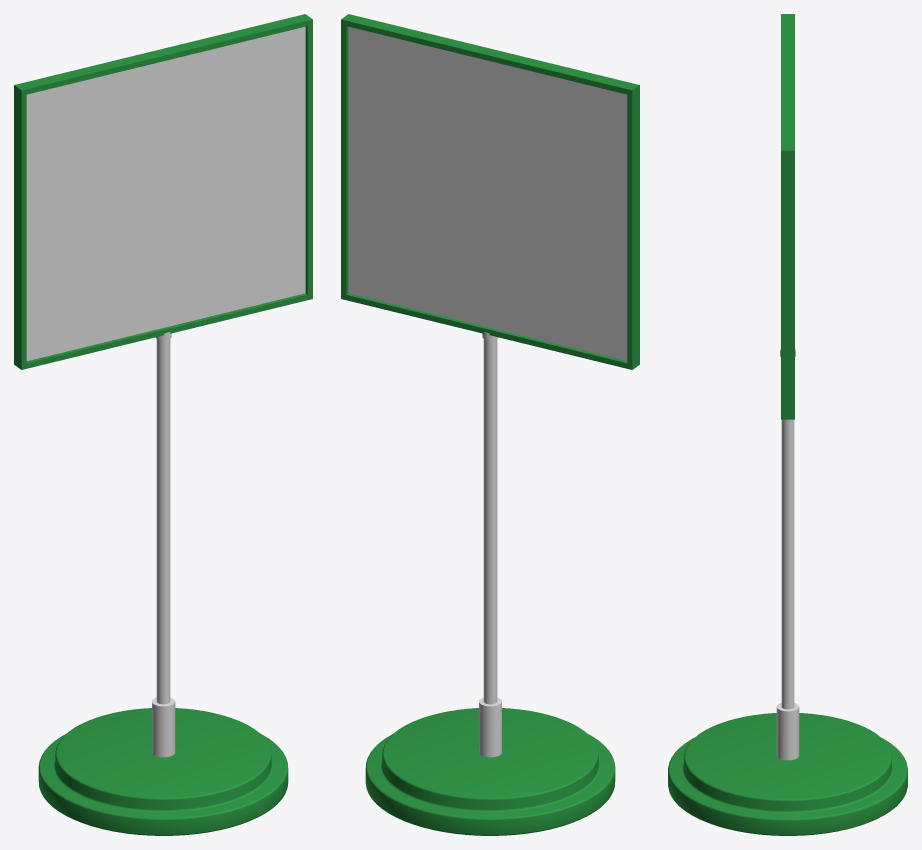
Rendered from newadvertisingstand.glb.
The picture shows the model from 3 angles, left to right: view 1: azimuth 30°, elevation 25°; view 2: azimuth 150°, elevation 25°; view 3: azimuth 270°, elevation 25°; orthographic projection. The views are drawn at different scales.
Parts seen in each view (by area): view 1: Billboard_4, Stand_5, Pole_8, Stripes_7; view 2: Billboard_4, Stand_5, Pole_8, Stripes_7; view 3: Stand_5, Billboard_4, Pole_8, Stripes_7.
Part boxes in pixels (<box>): Billboard_4: <box>14,14,312,369</box>; Stand_5: <box>38,708,288,835</box>; Pole_8: <box>156,339,170,704</box>; Stripes_7: <box>152,332,175,757</box>; Billboard_4: <box>341,14,639,369</box>; Stand_5: <box>365,708,615,835</box>; Pole_8: <box>483,339,497,704</box>; Stripes_7: <box>479,332,501,757</box>; Stand_5: <box>668,713,907,835</box>; Billboard_4: <box>781,14,794,419</box>; Pole_8: <box>781,419,794,709</box>; Stripes_7: <box>776,348,799,760</box>.
Size of the model in its own units: 1.1 by 2.65 by 0.8187.
